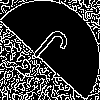J: (25, 25, 72, 76)
